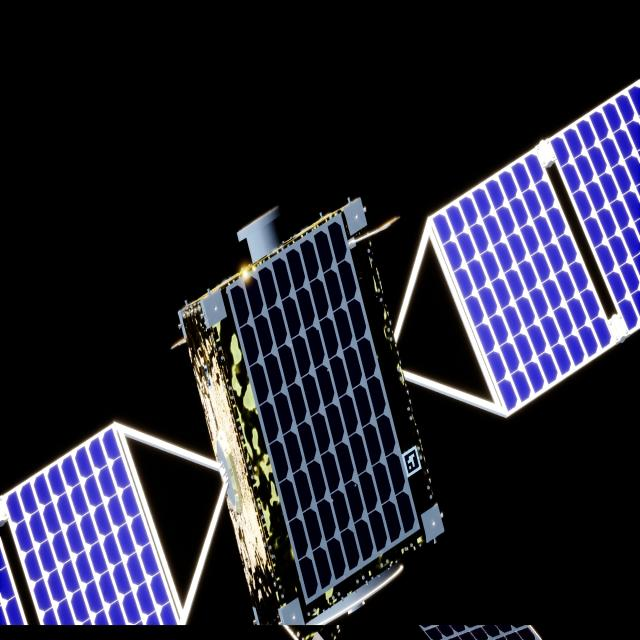medium_debris: (0, 78, 640, 635)
